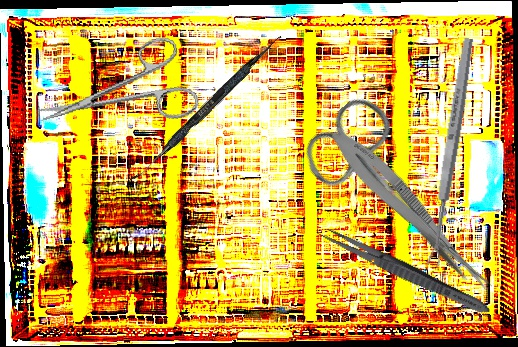Dressing Forceps: (314, 222, 494, 320)
Iris Scissors: (292, 88, 505, 310), (26, 31, 203, 154)
Micro Scissor: (323, 121, 503, 298)
Spatula Surgical: (129, 30, 283, 188)
Surgical Spoon: (425, 37, 476, 267)
